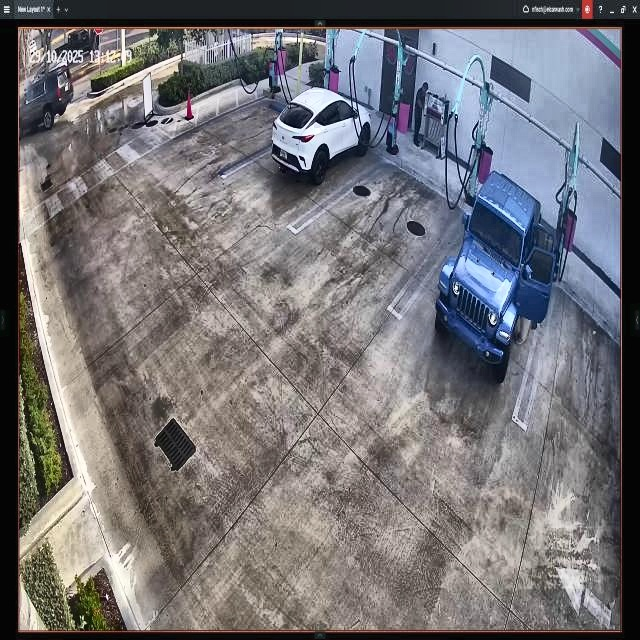Car: (436, 171, 559, 376), (276, 82, 370, 183)
